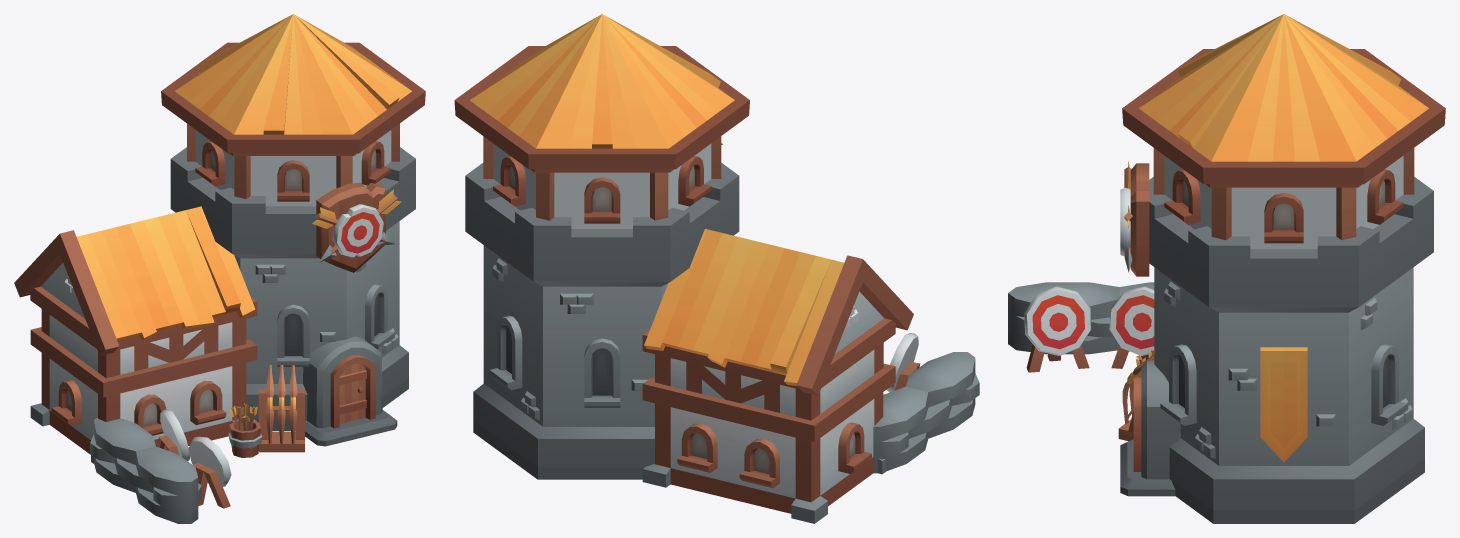
The model's file is kay-campo-arqueiros-amarelo.gltf.
3 renders of one model, left to right at view 1: azimuth 30°, elevation 25°; view 2: azimuth 150°, elevation 25°; view 3: azimuth 270°, elevation 25°, orthographic. The views are drawn at different scales.
Parts seen in each view (by area): view 1: building_archeryrange_yellow; view 2: building_archeryrange_yellow; view 3: building_archeryrange_yellow.
Part boxes in pixels (x1,y1,x2,y2): building_archeryrange_yellow: [14, 14, 425, 523]; building_archeryrange_yellow: [454, 14, 979, 523]; building_archeryrange_yellow: [1008, 14, 1445, 523].
Size of the model in its own units: 8.35 by 8.96 by 7.75.
1 material, 1 textured.
